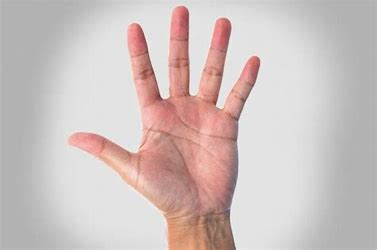palm: (67, 5, 261, 218)
